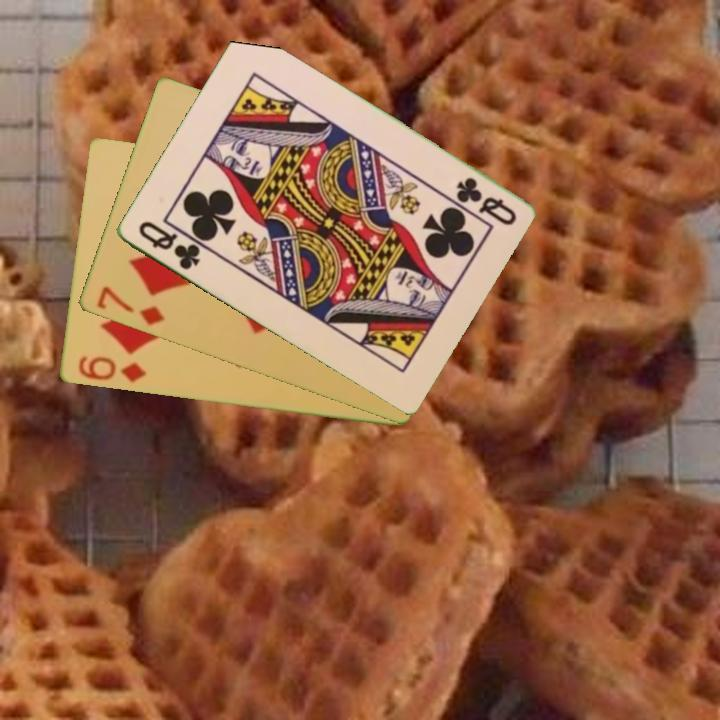6d: (74, 353, 148, 386)
7d: (93, 283, 168, 329)
Qc: (134, 217, 203, 273), (451, 173, 519, 229)
